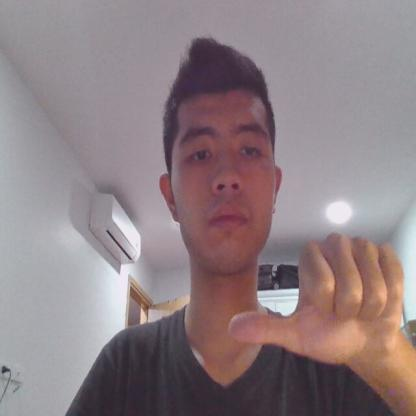right: (228, 233, 407, 375)
